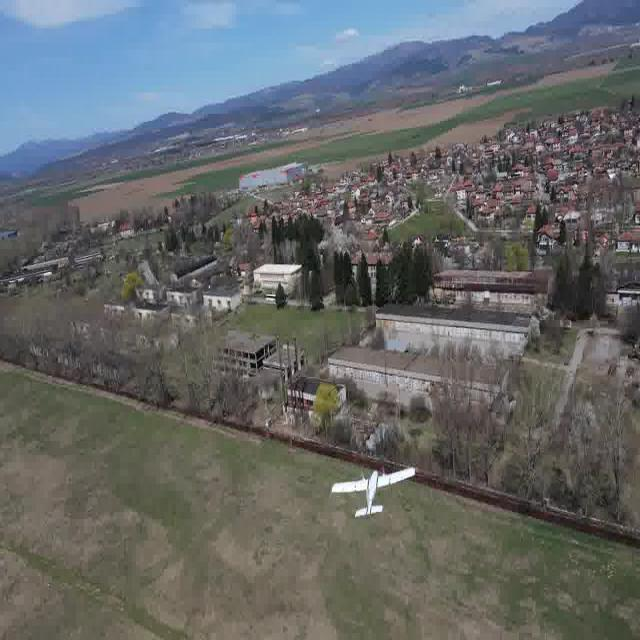iha: (356, 490, 383, 495)
